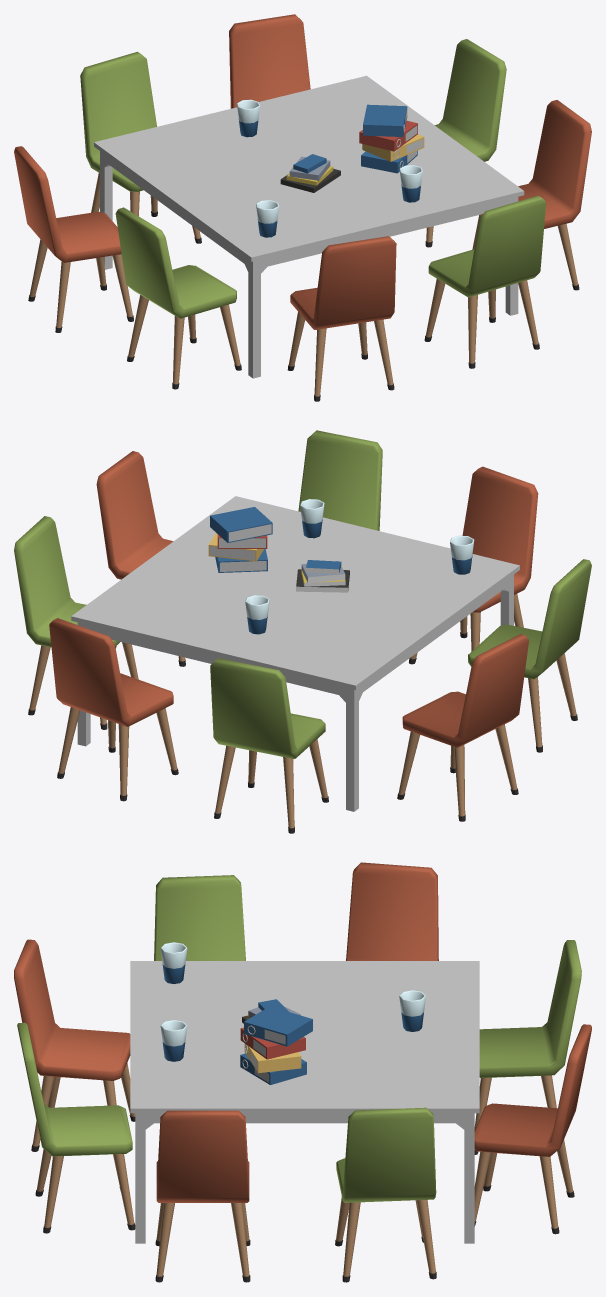
Rendered from Group_table_03.FBX.
The picture shows the model from 3 angles, top to bottom: view 1: azimuth 30°, elevation 25°; view 2: azimuth 150°, elevation 25°; view 3: azimuth 270°, elevation 25°; orthographic projection. The views are drawn at different scales.
Parts seen in each view (by area): view 1: table_01, chair_03, chair_04, chair_02, chair_01, chair_08, chair_05, chair_07, chair_06, file books_01, books_01, cup_02 (+2 smaller); view 2: table_01, chair_08, chair_07, chair_01, chair_03, chair_04, chair_06, chair_02, chair_05, file books_01, books_01, cup_01 (+2 smaller); view 3: table_01, chair_06, chair_05, chair_01, chair_03, chair_07, chair_04, chair_08, chair_02, file books_01, cup_01, cup_03 (+1 smaller).
Boxes of the visible parts, bbox=[...] form: table_01: bbox=[94, 75, 524, 378]; chair_03: bbox=[287, 236, 396, 401]; chair_04: bbox=[424, 195, 546, 368]; chair_02: bbox=[115, 207, 241, 389]; chair_01: bbox=[14, 146, 133, 332]; chair_08: bbox=[80, 51, 201, 243]; chair_05: bbox=[472, 100, 591, 290]; chair_07: bbox=[229, 14, 310, 108]; chair_06: bbox=[425, 39, 506, 247]; file books_01: bbox=[359, 104, 424, 173]; books_01: bbox=[280, 154, 340, 192]; cup_02: bbox=[256, 200, 279, 237]; table_01: bbox=[71, 496, 519, 811]; chair_08: bbox=[210, 658, 328, 833]; chair_07: bbox=[49, 618, 178, 801]; chair_01: bbox=[397, 634, 528, 821]; chair_03: bbox=[409, 466, 538, 664]; chair_04: bbox=[298, 430, 382, 530]; chair_06: bbox=[14, 516, 138, 729]; chair_02: bbox=[468, 559, 591, 752]; chair_05: bbox=[96, 451, 185, 666]; file books_01: bbox=[208, 507, 272, 572]; books_01: bbox=[296, 560, 349, 592]; cup_01: bbox=[245, 595, 269, 634]; table_01: bbox=[130, 961, 479, 1243]; chair_06: bbox=[335, 1107, 436, 1282]; chair_05: bbox=[155, 1110, 250, 1282]; chair_01: bbox=[346, 862, 438, 960]; chair_03: bbox=[14, 939, 135, 1151]; chair_07: bbox=[474, 1024, 591, 1234]; chair_04: bbox=[17, 1022, 135, 1233]; chair_08: bbox=[474, 940, 581, 1154]; chair_02: bbox=[154, 875, 245, 960]; file books_01: bbox=[240, 1006, 312, 1084]; cup_01: bbox=[399, 990, 425, 1031]; cup_03: bbox=[160, 1020, 187, 1061].
Size of the model in its own units: 302 by 104 by 292.
Materials: 1 (1 with a texture image).
